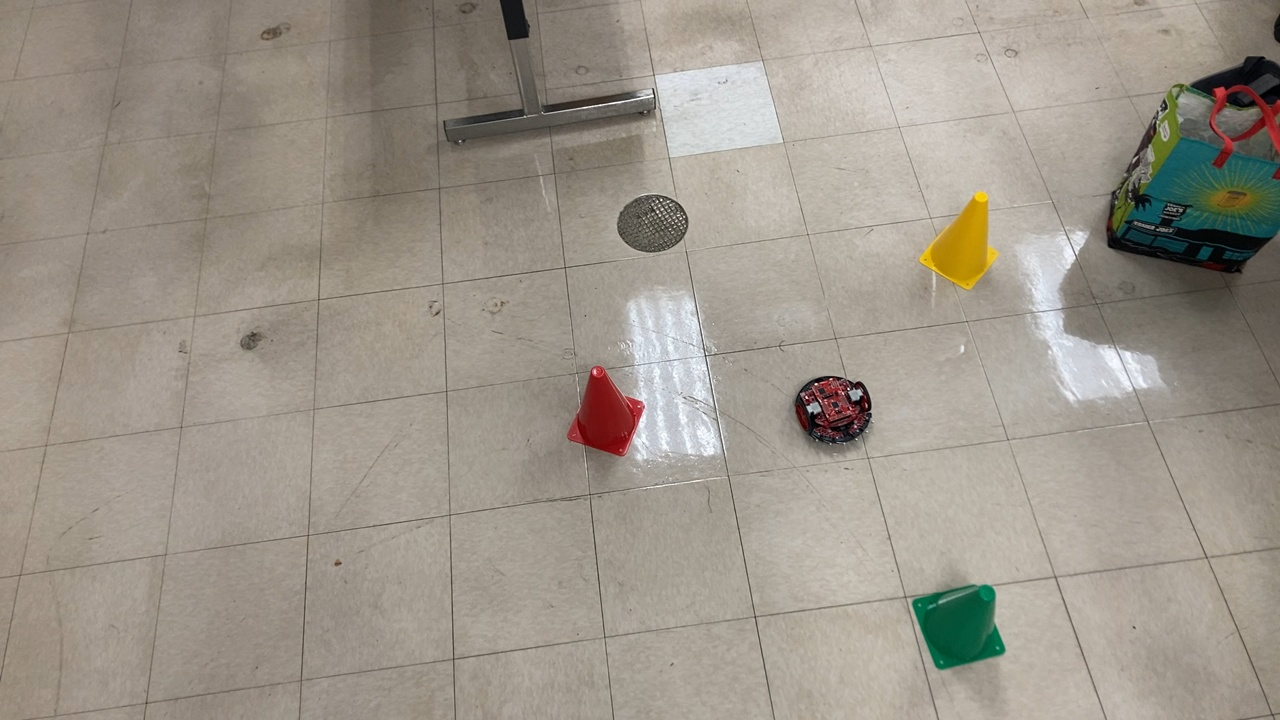green_cone: (906, 582, 1012, 676)
red_cone: (566, 364, 643, 462)
robot: (792, 373, 877, 453)
yellow_cone: (916, 188, 1000, 296)
